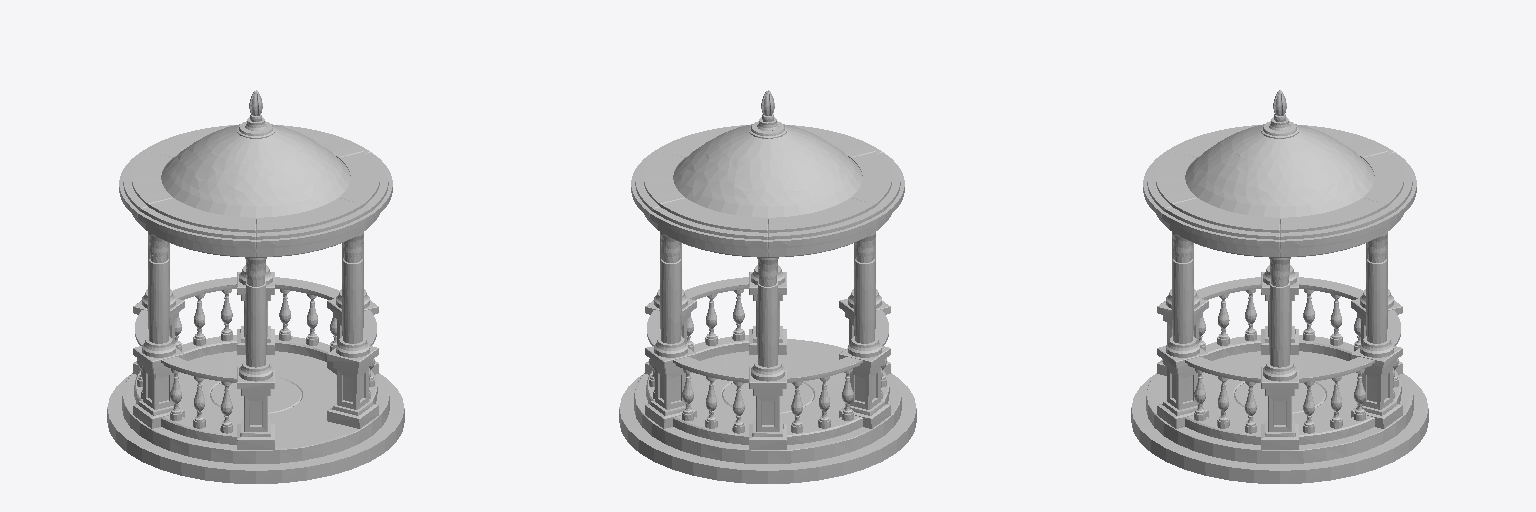
File: Rotunda1_01 LOD1.obj
3 views of the same model, side by side, from view 1: azimuth 30°, elevation 25°; view 2: azimuth 150°, elevation 25°; view 3: azimuth 270°, elevation 25° (orthographic).
Parts seen in each view (by area): view 1: Rotunda1_Cylinder; view 2: Rotunda1_Cylinder; view 3: Rotunda1_Cylinder.
Part boxes in pixels (x1,y1,x2,y2): Rotunda1_Cylinder: (107,90,404,483); Rotunda1_Cylinder: (619,90,916,483); Rotunda1_Cylinder: (1131,90,1428,483).
Bounding box in the file's own units: 2 × 2.45 × 2.